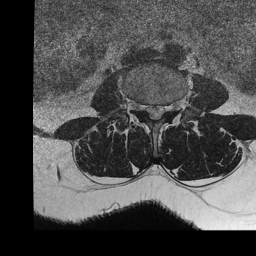CCS_stenosis: (152, 96, 158, 126)
LFS_normal: (165, 96, 174, 117)
LLS_normal: (158, 96, 165, 121)
RFS_normal: (138, 94, 145, 117)
RLS_normal: (145, 96, 152, 123)
